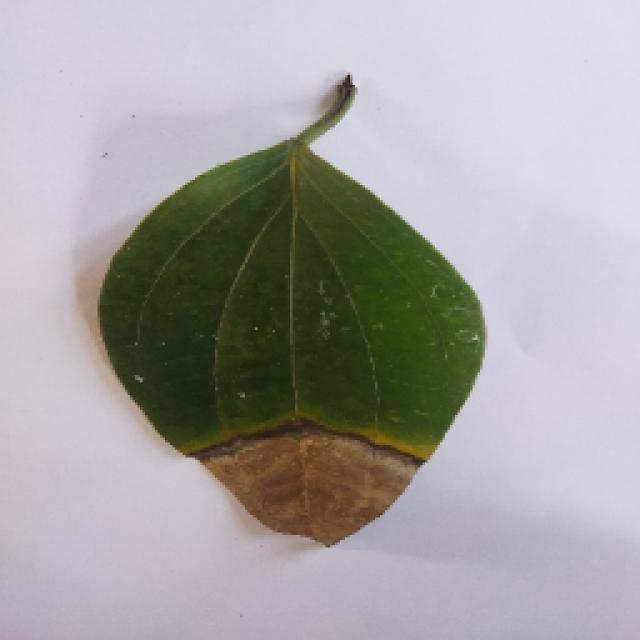footrot: (90, 82, 485, 552)
